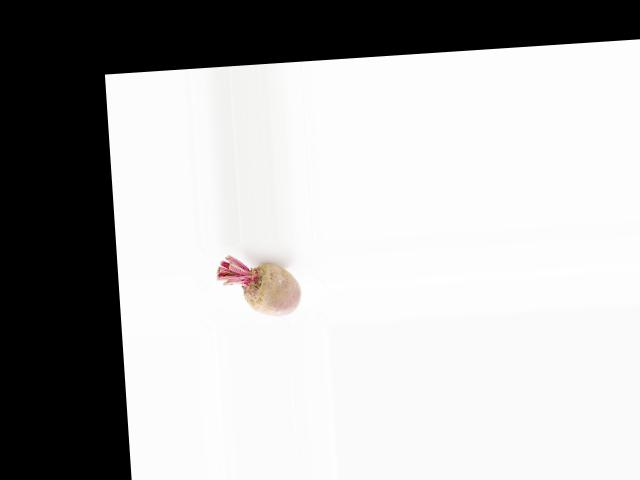beet: (215, 249, 303, 320)
